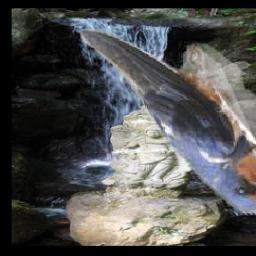Swallow: (79, 30, 256, 214)
